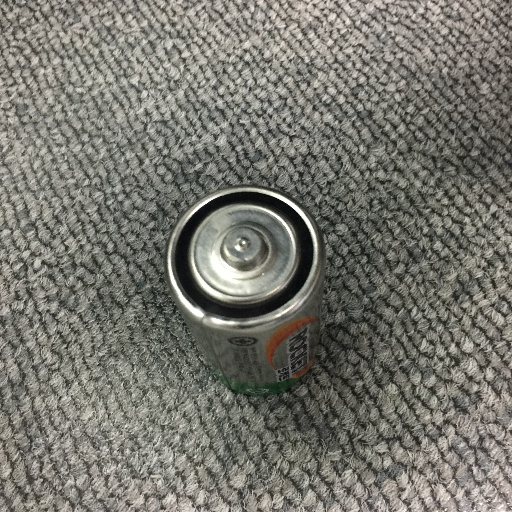Battery_0: (157, 164, 355, 423)
